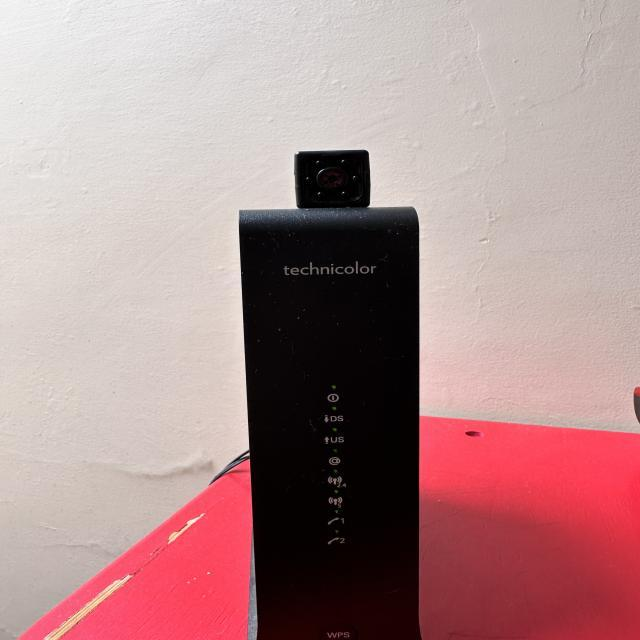hidden camera: (317, 168, 348, 191)
